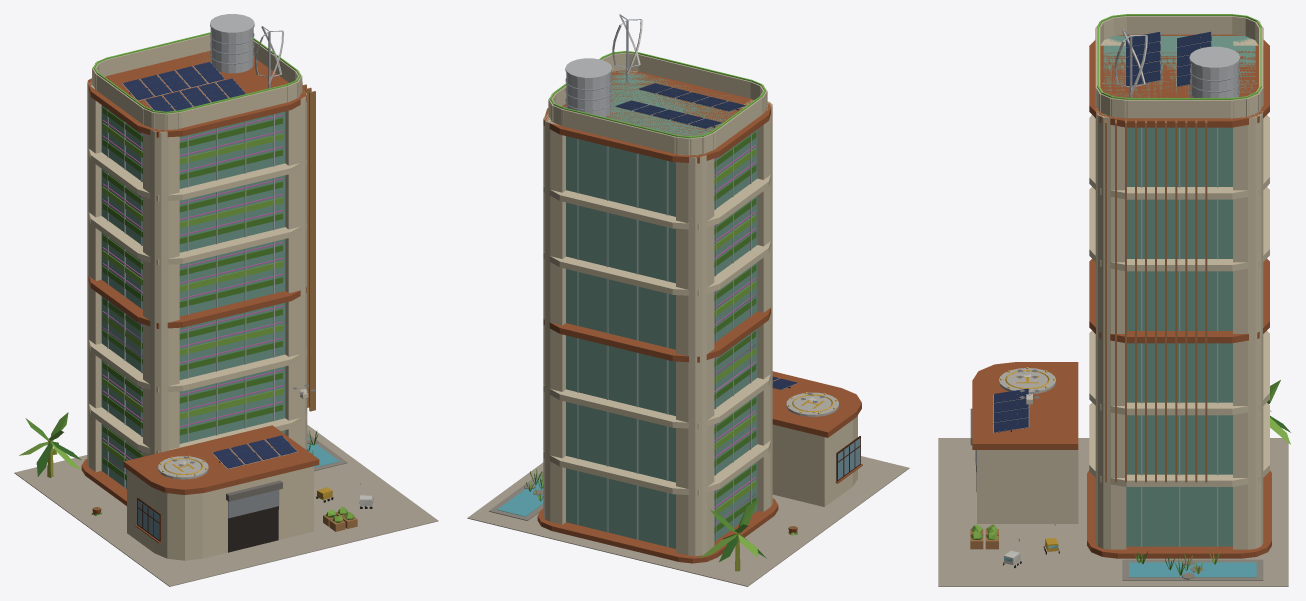
Rendered from factory_2.glb.
3 renders of one model, left to right at view 1: azimuth 30°, elevation 25°; view 2: azimuth 150°, elevation 25°; view 3: azimuth 270°, elevation 25°, orthographic. The views are drawn at different scales.
Parts seen in each view (by area): view 1: body, windows; view 2: body, windows; view 3: body, windows.
Part boxes in pixels (x1,y1,x2,y2): body: (14, 14, 438, 586); windows: (93, 32, 373, 552); body: (467, 14, 909, 586); windows: (549, 51, 837, 413); body: (938, 16, 1290, 586); windows: (976, 14, 1261, 561).
Size of the model in its own units: 16.08 by 25.65 by 16.04.
